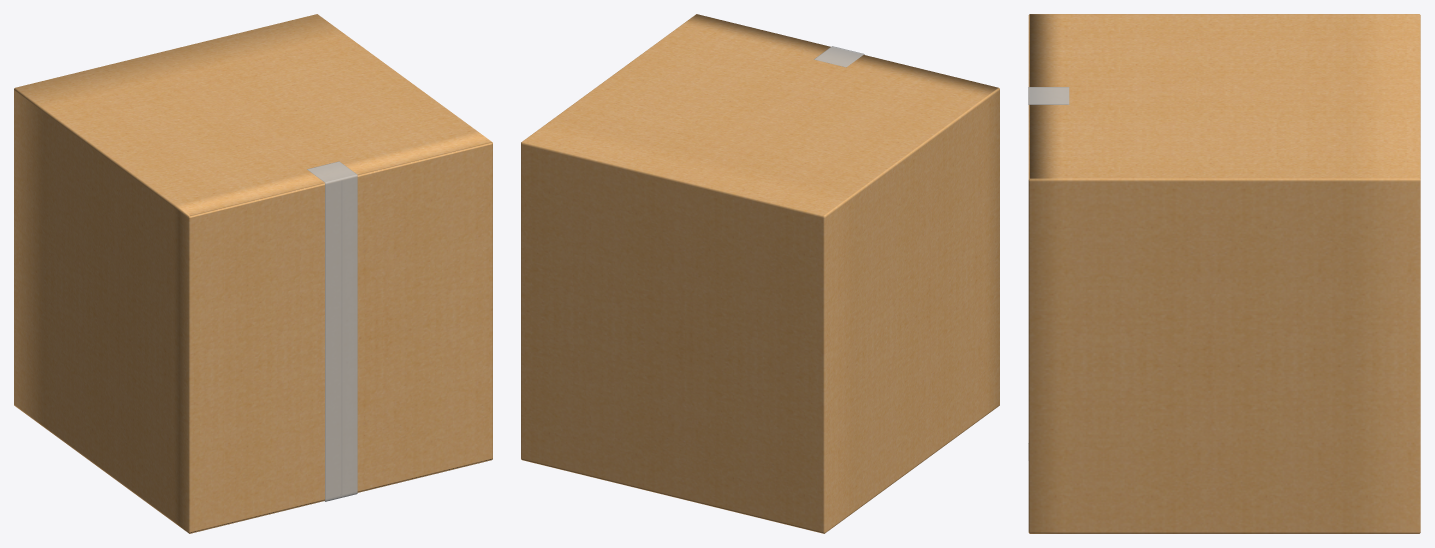
3 renders of one model, left to right at view 1: azimuth 30°, elevation 25°; view 2: azimuth 150°, elevation 25°; view 3: azimuth 270°, elevation 25°, orthographic. The views are drawn at different scales.
Visible parts, largest first — view 1: 14040_Cardboard_Box_On_Palette_v1_L1; view 2: 14040_Cardboard_Box_On_Palette_v1_L1; view 3: 14040_Cardboard_Box_On_Palette_v1_L1.
Boxes of the visible parts, x1,y1,x2,y2 form: 14040_Cardboard_Box_On_Palette_v1_L1: [14, 14, 492, 533]; 14040_Cardboard_Box_On_Palette_v1_L1: [521, 14, 999, 533]; 14040_Cardboard_Box_On_Palette_v1_L1: [1028, 14, 1420, 533].
Size of the model in its own units: 5000 by 5012 by 5004.
2 materials, 1 textured.
